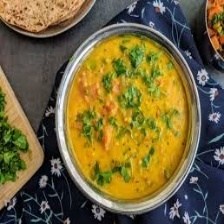roti: (0, 0, 90, 33)
